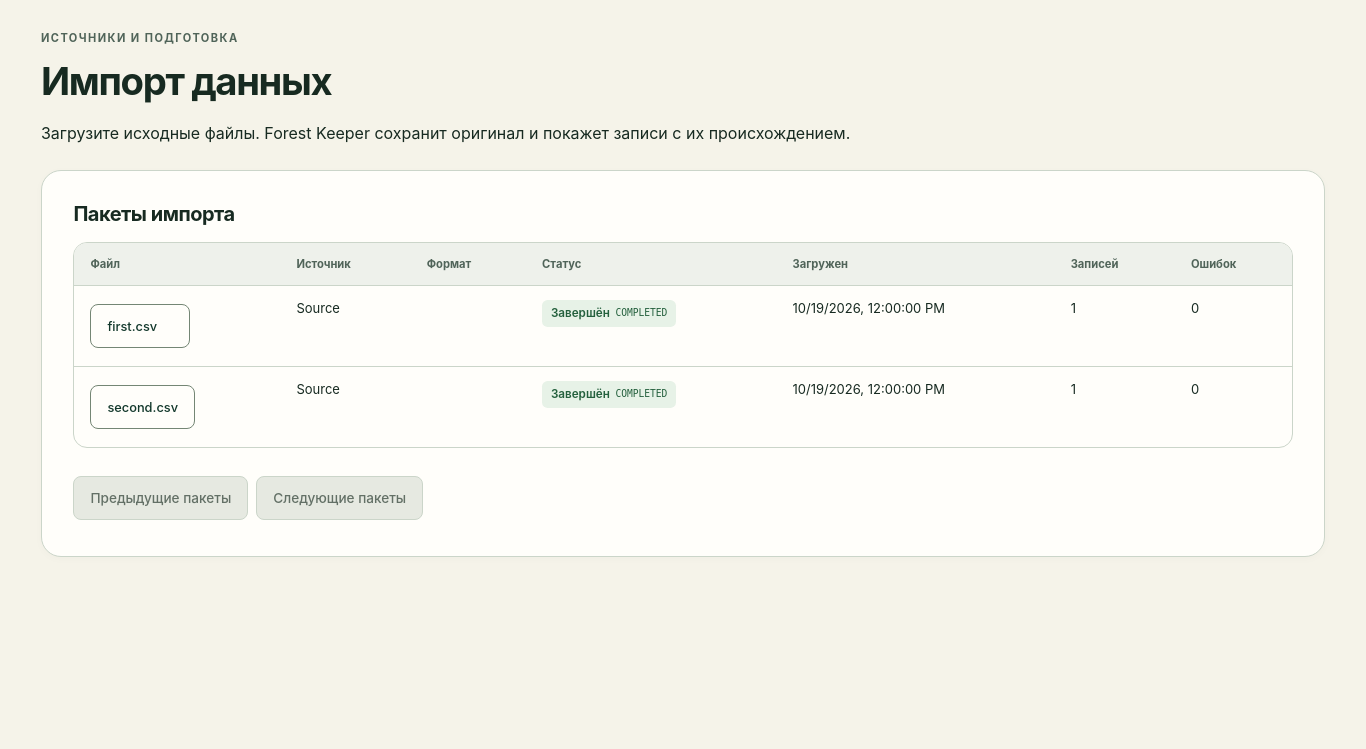
Scenario: cancels old records on navigation and never shows them in the new batch
Click the button "first.csv" at (140, 326), box 90,304 -> 190,348
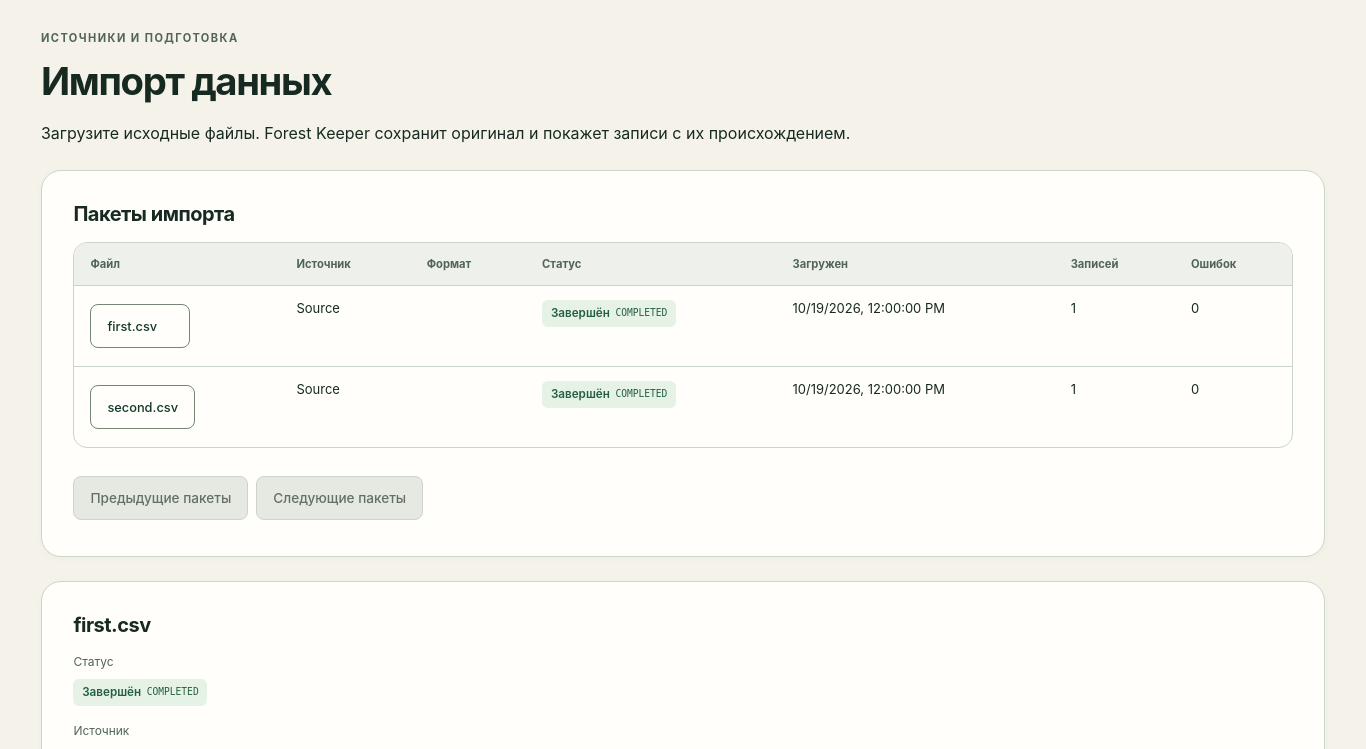
Click the button "second.csv" at (143, 407), box 90,385 -> 195,429
Wait 3000 ms
(page scrolled)
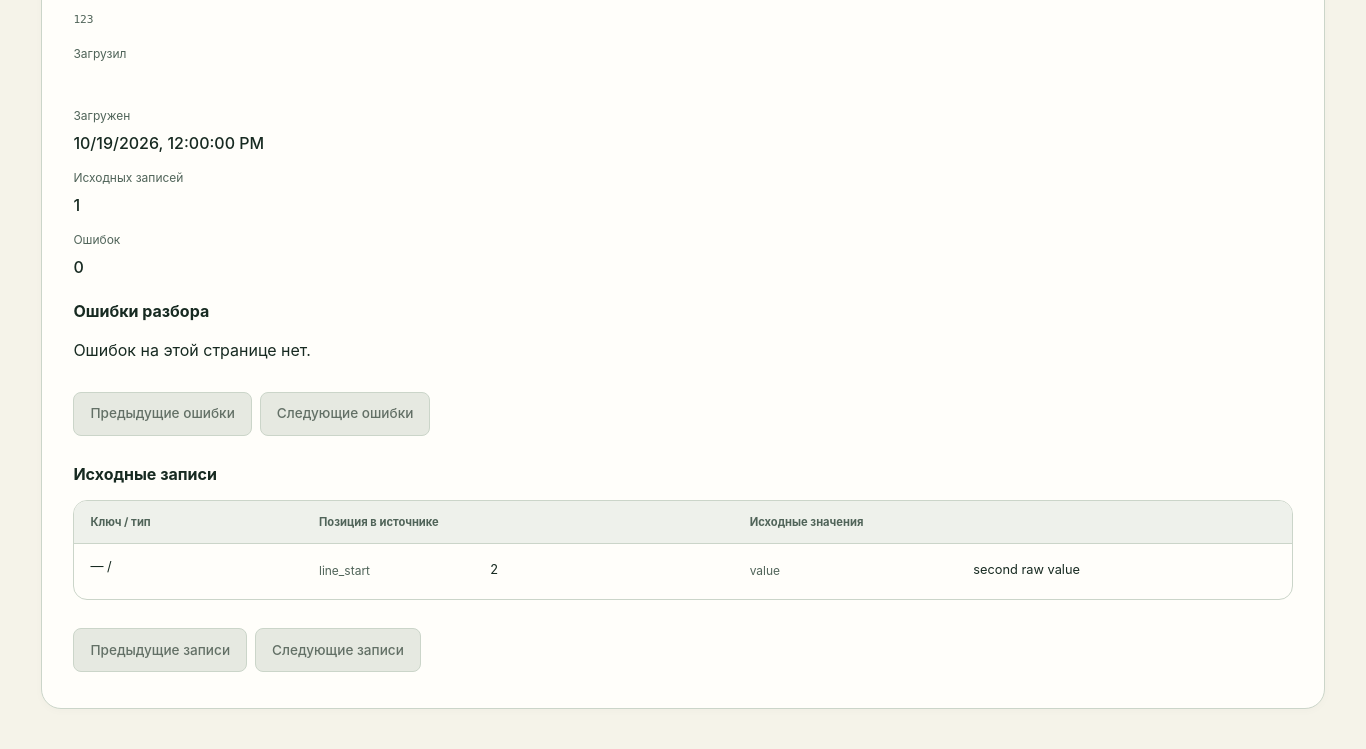
Now the text "second raw value" is shown, box 973,562 -> 1080,577
